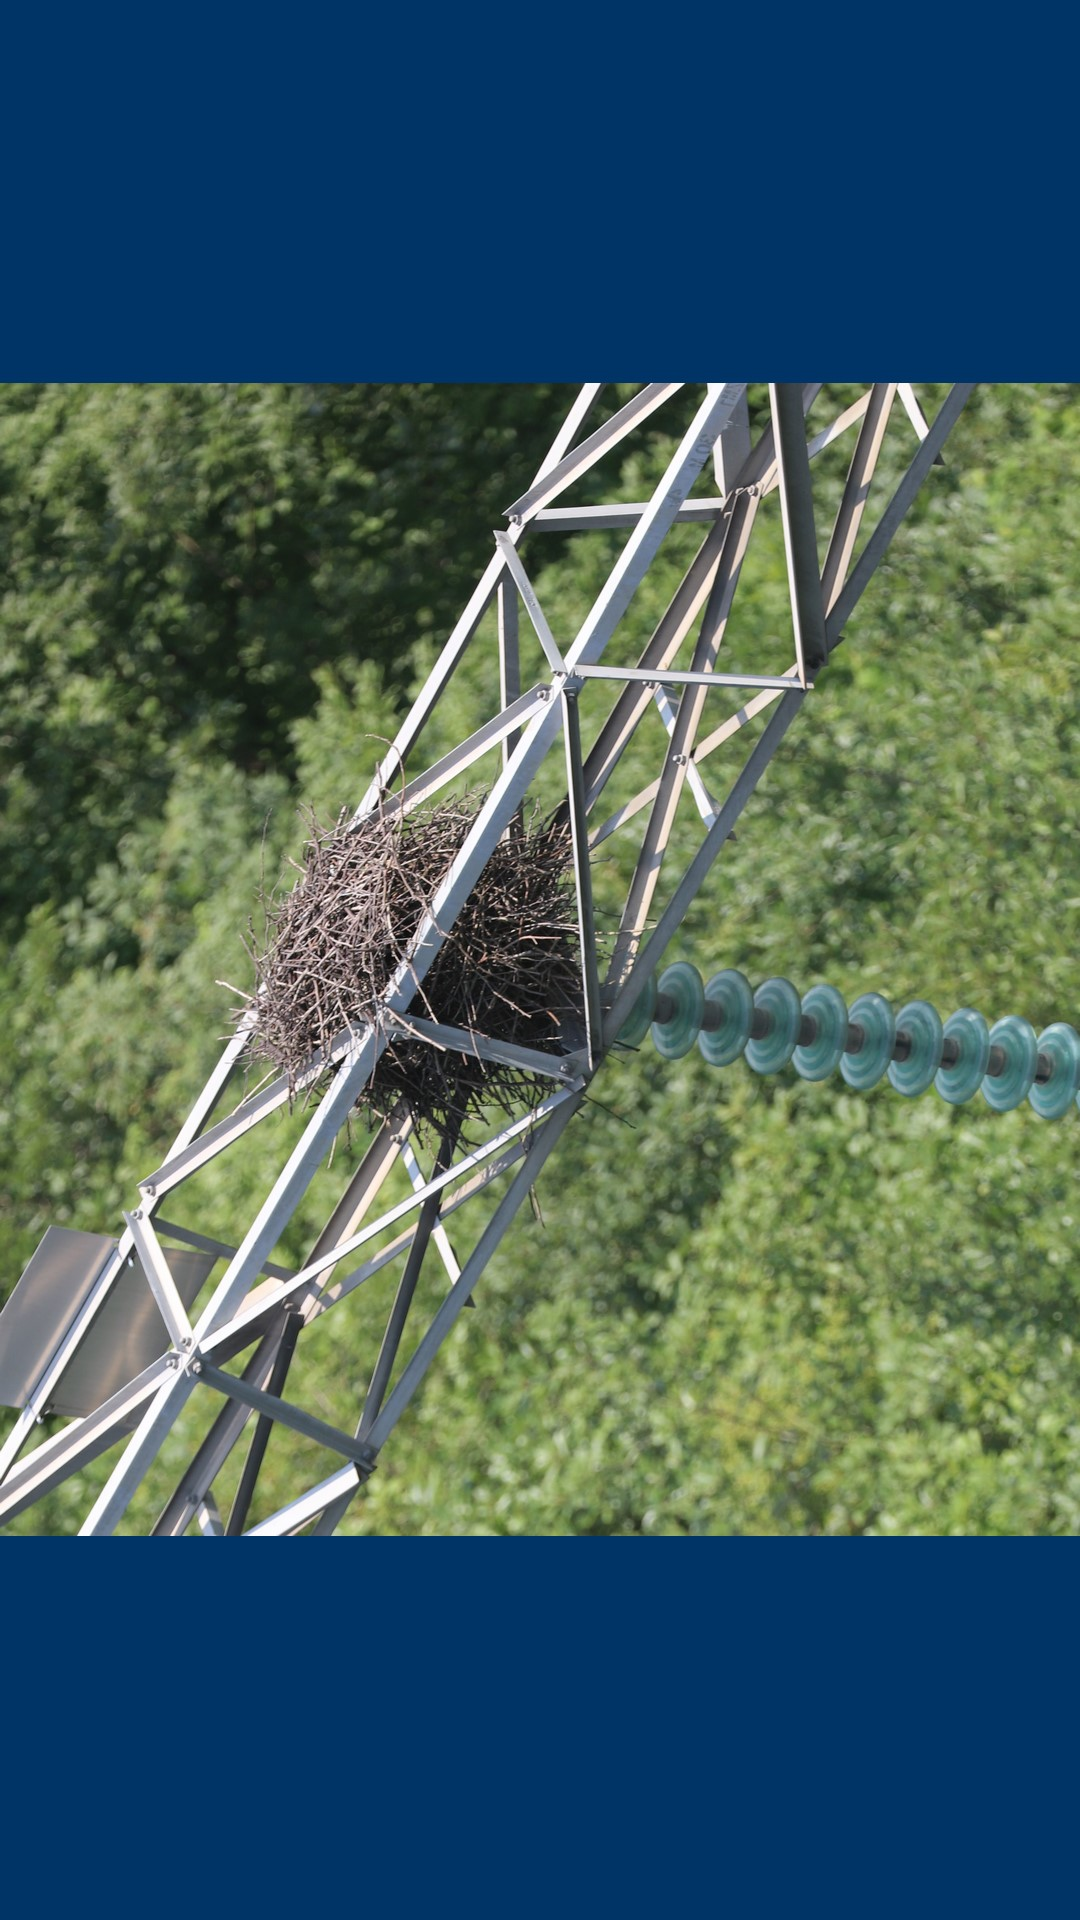niaowo: (236, 803, 589, 1158)
